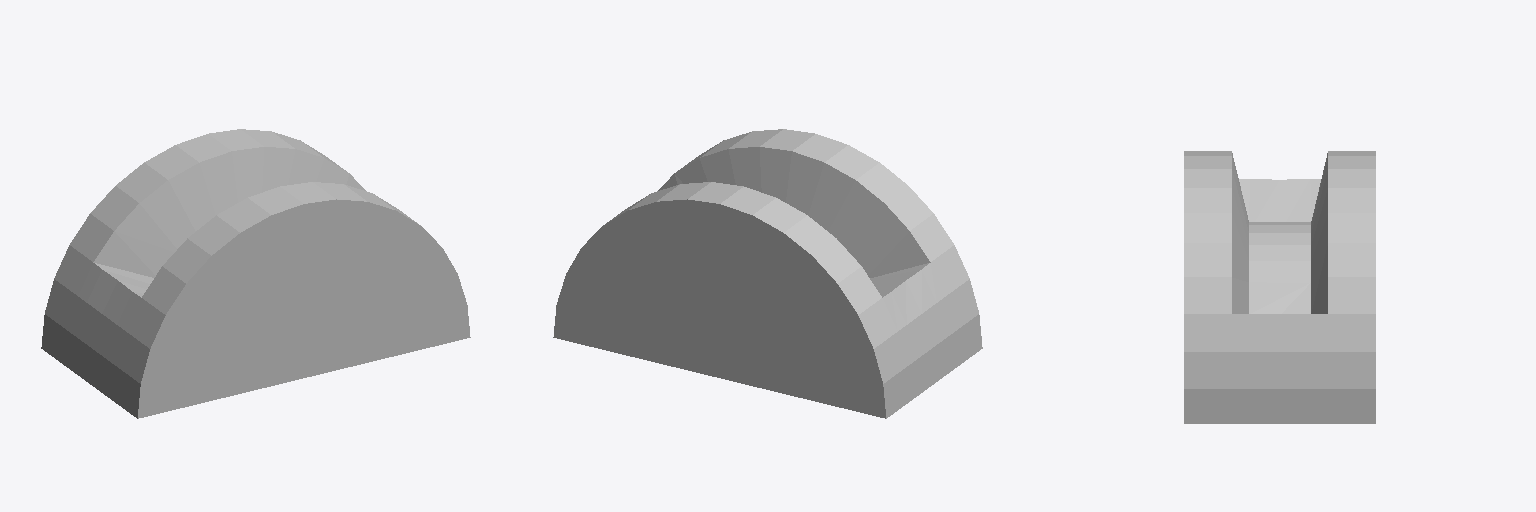
File: LeverBase_01.obj
3 views of the same model, side by side, from view 1: azimuth 30°, elevation 25°; view 2: azimuth 150°, elevation 25°; view 3: azimuth 270°, elevation 25° (orthographic).
Visible parts, largest first — view 1: Cylinder.002; view 2: Cylinder.002; view 3: Cylinder.002.
Part boxes in pixels (x1,y1,x2,y2): Cylinder.002: (41, 129, 470, 418); Cylinder.002: (553, 129, 982, 418); Cylinder.002: (1184, 151, 1375, 423).
Bounding box in the file's own units: 2 × 1 × 1.